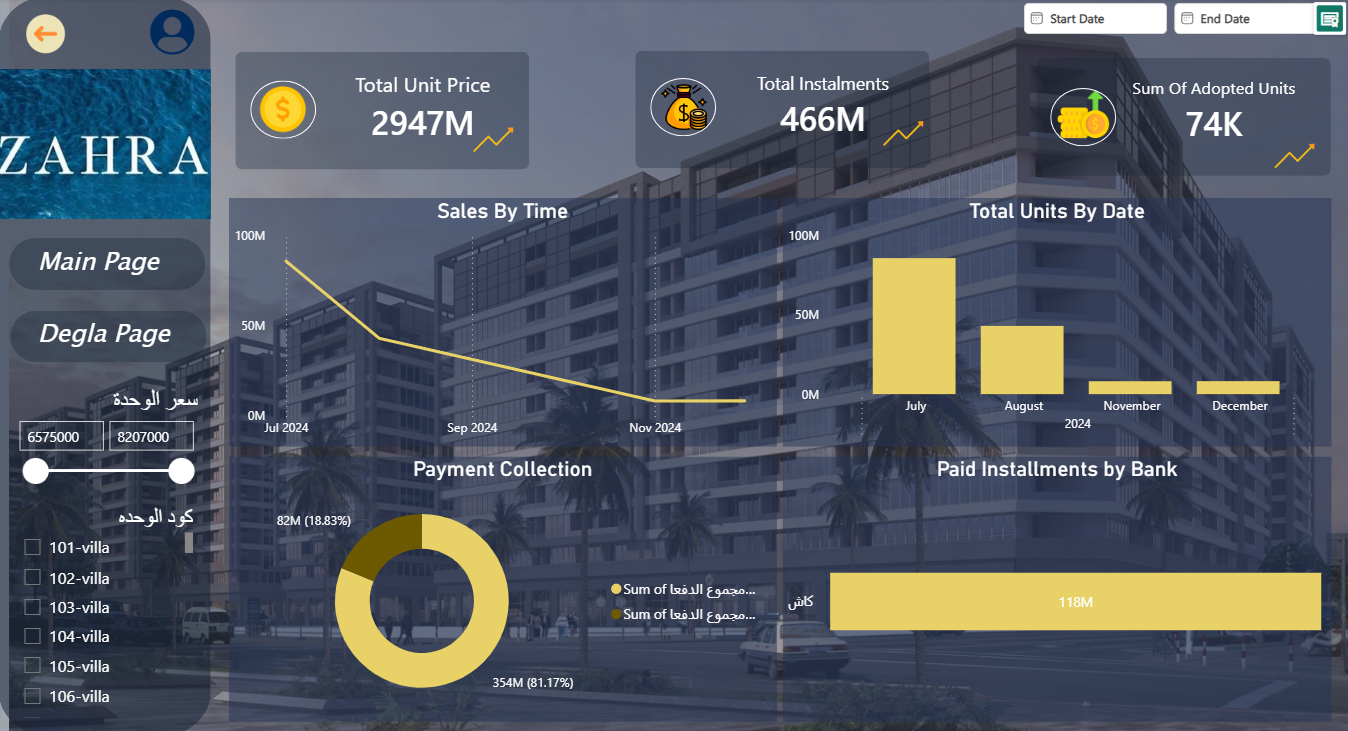

The dashboard page shown, as its layout file describes it:
{"tool":"powerbi","page":{"name":"Zahra North Cost","canvas":[1322,720],"ordinal":2},"visuals":[{"type":"image","box":[10,0,1312,720.5],"z":0},{"type":"shape","box":[0,0,1322,720.5],"z":1000},{"type":"shape","box":[0,0,207.1,720.5],"z":2000},{"type":"shape","box":[0,69.4,192.2,143.9],"z":3000},{"type":"image","box":[0,69.4,207.1,146.3],"z":4000},{"type":"shape","box":[9.9,234.4,192.2,50.8],"z":5000},{"type":"shape","box":[11.2,306.3,192.2,50.8],"z":6000},{"type":"image","box":[19.8,12.4,52.1,45.9],"z":7000},{"type":"textbox","box":[33.5,234.4,150.1,57],"z":8000},{"type":"textbox","box":[33.5,306.3,150.1,57],"z":9000},{"type":"slicer","title":"سعر الوحدة","fields":{"Values":["Zahra North Coast.سعر الوحدة"]},"box":[7.4,380.7,192.2,115.3],"z":10000},{"type":"shape","box":[230.7,52.1,287.7,115.3],"z":11000},{"type":"Datepicker_1687358625","fields":{"categories":["Zahra North Coast.Date"]},"box":[998.3,0,323.7,50],"z":12000},{"type":"slicer","title":"كود الوحده","fields":{"Values":["Degla Landmark.كود الوحدة"]},"box":[12.4,496.1,182.3,212.1],"z":13000},{"type":"shape","box":[622.6,50.8,287.7,115.3],"z":14000},{"type":"shape","box":[1014.4,58.3,288,115.3],"z":15000},{"type":"cardVisual","fields":{"Data":["Degla Landmark.Total_Unit_Price"]},"box":[310,58.3,208.3,95.5],"z":16000},{"type":"cardVisual","fields":{"Data":["Degla Landmark.Total_Installments_Due"]},"box":[701.9,57,208.3,95.5],"z":17000},{"type":"cardVisual","fields":{"Data":["Sum(MorshedyAdvertisedUnitsTable.Adopted Total Units)"]},"box":[1076.5,62,225.7,95.5],"z":18000},{"type":"image","box":[644.9,84.3,50.8,44.6],"z":19000},{"type":"image","box":[240.6,80.6,73.2,55.8],"z":20000},{"type":"image","box":[1028.1,88.1,64.5,50.8],"z":21000},{"type":"shape","box":[245.5,80.6,64.5,57],"z":22000},{"type":"shape","box":[637.4,78.1,64.5,57],"z":23000},{"type":"shape","box":[1028.1,88.1,64.5,57],"z":24000},{"type":"image","box":[448.9,116.6,69.4,44.6],"z":25000},{"type":"image","box":[849.5,110.4,69.4,44.6],"z":26000},{"type":"image","box":[1232.7,131.5,69.4,44.6],"z":27000},{"type":"image","box":[146.3,8.7,45.9,49.6],"z":28000},{"type":"lineChart","title":"Sales By Time","fields":{"Y":["Sum(Zahra North Coast.سعر الوحدة)"],"Category":["Zahra North Coast.تاريخ عقد البيع.Variation.Date Hierarchy.Year","Zahra North Coast.تاريخ عقد البيع.Variation.Date Hierarchy.Month"]},"box":[224.5,195.9,535.7,243.1],"z":29000},{"type":"columnChart","title":"Total Units By Date","fields":{"Y":["Zahra North Coast.zahra_Total_Unit_Price"],"Category":["Zahra North Coast.تاريخ عقد البيع.Variation.Date Hierarchy.Year","Zahra North Coast.تاريخ عقد البيع.Variation.Date Hierarchy.Month"]},"box":[766.4,195.9,537,243.1],"z":30000},{"type":"donutChart","title":"Payment Collection","fields":{"Y":["Sum(Zahra North Coast.مجموع الدفعات المدفوعة)","Sum(Zahra North Coast.مجموع الدفعات المستحقة)"]},"box":[224.5,448.9,535.7,259.2],"z":31000},{"type":"funnel","title":"Paid Installments by Bank","fields":{"Category":["Zahra North Coast.البنك"],"Y":["Sum(Zahra North Coast.مجموع الدفعات المدفوعة)"]},"box":[766.4,448.9,537,259.2],"z":32000}]}

Visuals, with their boxes in screenshot pixels (x1, y1, x2, y2), scaled from the page's 1322x720 canvas onto the 1348x731 screenshot:
image: 10:0:1347:730
shape: 0:0:1347:730
shape: 0:0:211:730
shape: 0:70:196:217
image: 0:70:211:219
shape: 10:238:206:290
shape: 11:311:207:363
image: 20:13:73:59
textbox: 34:238:187:296
textbox: 34:311:187:369
"سعر الوحدة" slicer: 8:387:204:504
shape: 235:53:529:170
Datepicker_1687358625 - Zahra North Coast.Date: 1018:0:1347:51
"كود الوحده" slicer: 13:504:199:719
shape: 635:52:928:169
shape: 1034:59:1328:176
cardVisual - Degla Landmark.Total_Unit_Price: 316:59:528:156
cardVisual - Degla Landmark.Total_Installments_Due: 716:58:928:155
cardVisual - Sum(MorshedyAdvertisedUnitsTable.Adopted Total Units): 1098:63:1328:160
image: 658:86:709:131
image: 245:82:320:138
image: 1048:89:1114:141
shape: 250:82:316:140
shape: 650:79:716:137
shape: 1048:89:1114:147
image: 458:118:528:164
image: 866:112:937:157
image: 1257:134:1328:179
image: 149:9:196:59
"Sales By Time" lineChart: 229:199:775:446
"Total Units By Date" columnChart: 781:199:1329:446
"Payment Collection" donutChart: 229:456:775:719
"Paid Installments by Bank" funnel: 781:456:1329:719
